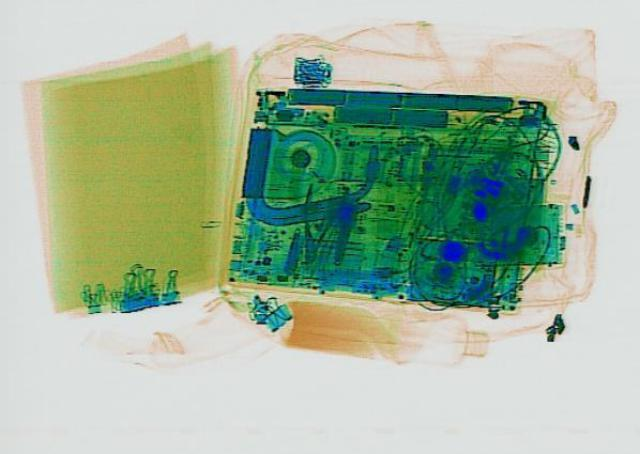Pliers: (286, 180, 350, 264)
